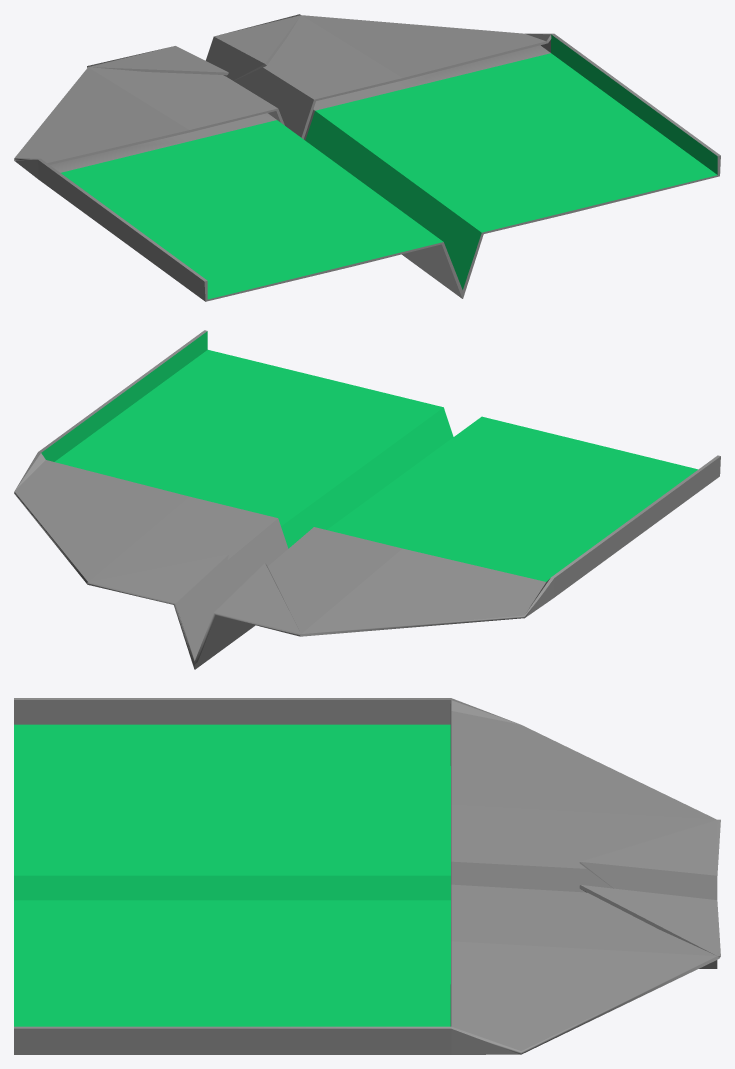
Rendered from Prop_Skypad_PaperPlane_02.FBX.
3 views of the same model, one above another, from view 1: azimuth 30°, elevation 25°; view 2: azimuth 150°, elevation 25°; view 3: azimuth 270°, elevation 25° (orthographic). The views are drawn at different scales.
Visible parts, largest first — view 1: Plane003; view 2: Plane003; view 3: Plane003.
Boxes of the visible parts, box(x1,y1,x2,y2) form: Plane003: box(14, 14, 720, 301); Plane003: box(14, 330, 720, 669); Plane003: box(14, 698, 720, 1054).
Bounding box in the file's own units: 35.79 × 5.33 × 32.34.
